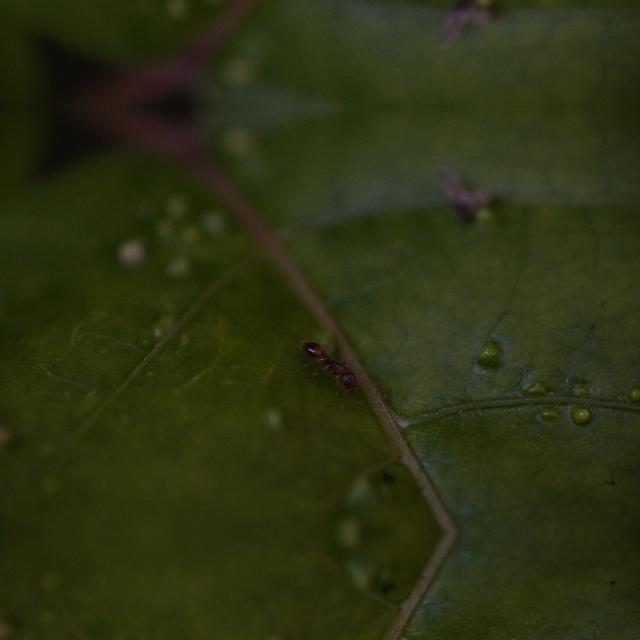Temnothorax: (296, 326, 378, 408)
